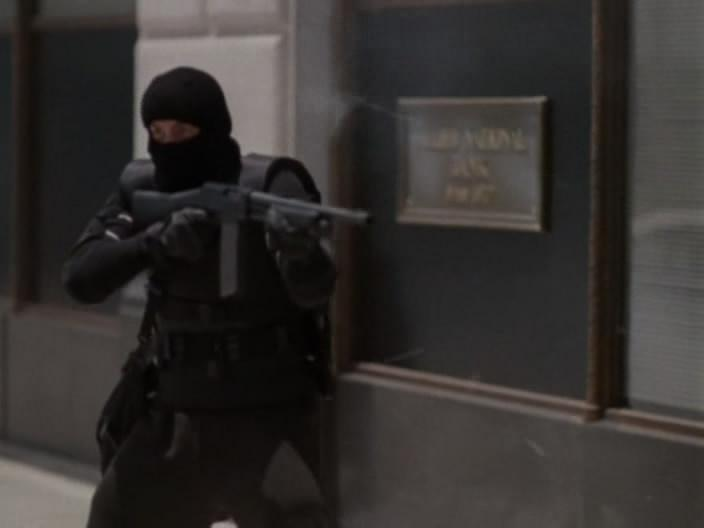gun: (127, 177, 372, 301)
